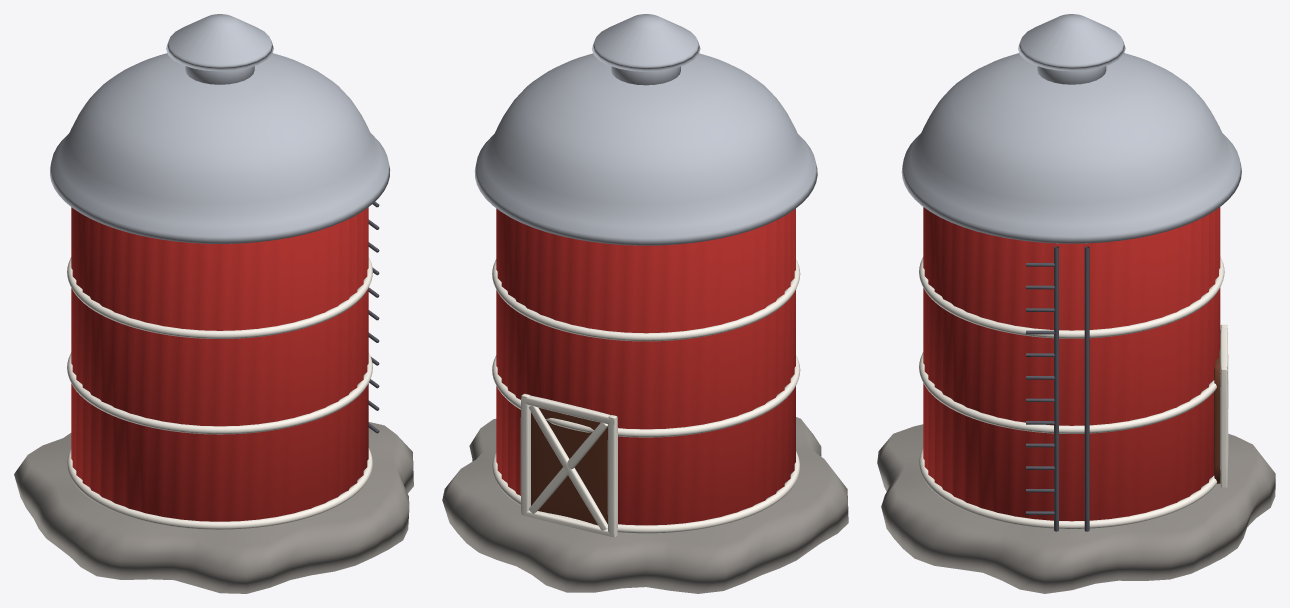
Rendered from HarvestSilo.obj.
3 views of the same model, side by side, from view 1: azimuth 30°, elevation 25°; view 2: azimuth 150°, elevation 25°; view 3: azimuth 270°, elevation 25° (orthographic).
Visible parts, largest first — view 1: SiloBody, SiloRoof, SiloStone, SiloTrim, SiloLadder; view 2: SiloBody, SiloRoof, SiloStone, SiloTrim, SiloDoor; view 3: SiloBody, SiloRoof, SiloStone, SiloTrim, SiloLadder, SiloDoor.
Part boxes in pixels (x1,y1,x2,y2): SiloBody: [71, 207, 368, 521]; SiloRoof: [50, 14, 390, 243]; SiloStone: [14, 422, 413, 593]; SiloTrim: [67, 257, 372, 529]; SiloLadder: [368, 201, 379, 433]; SiloBody: [496, 208, 795, 525]; SiloRoof: [474, 14, 817, 245]; SiloStone: [442, 417, 848, 593]; SiloTrim: [492, 259, 800, 537]; SiloDoor: [531, 408, 607, 525]; SiloBody: [923, 207, 1220, 521]; SiloRoof: [901, 14, 1241, 243]; SiloStone: [877, 424, 1275, 593]; SiloTrim: [919, 257, 1228, 528]; SiloLadder: [1026, 246, 1089, 531]; SiloDoor: [1214, 350, 1220, 483].
Size of the model in its own units: 14.45 by 19.5 by 14.4.
